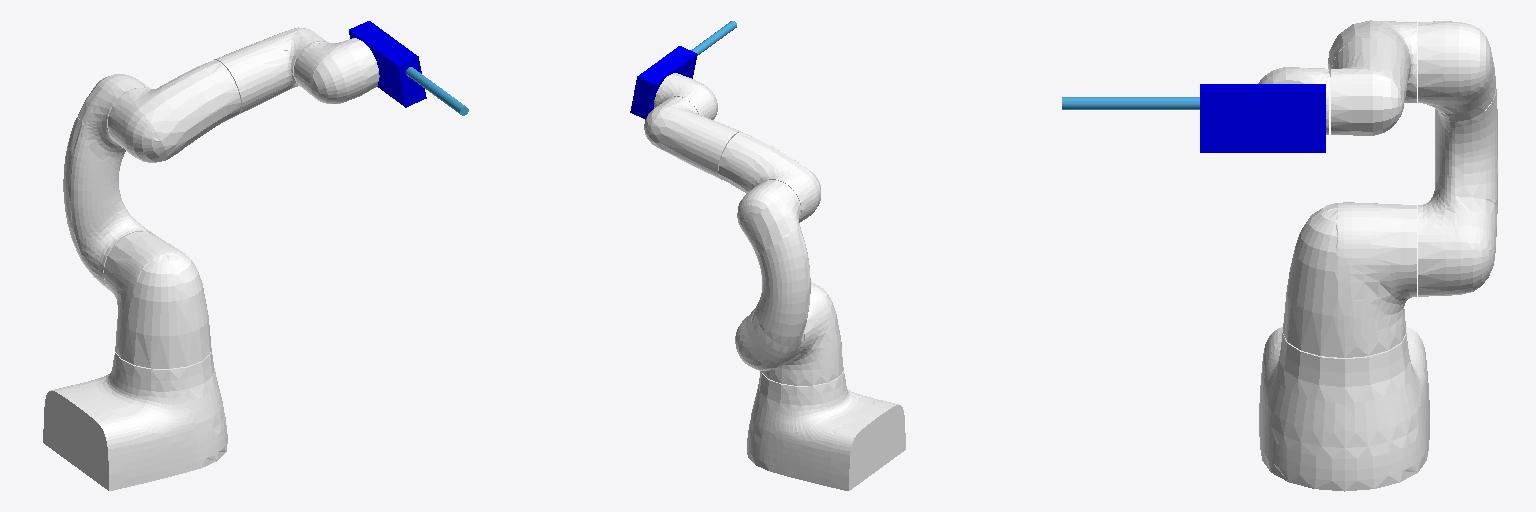
URDF robot description (cobotta_r):
<robot name="cobotta_r">
	<gazebo>
		<plugin filename="libgazebo_ros_control.so" name="gazebo_ros_control">
			<robotNamespace>/cobotta_r</robotNamespace>
		</plugin>
	</gazebo>
	<link name="world" />
	<joint name="joint_w" type="fixed">
		<parent link="world" />
		<child link="base_link" />
	</joint>
	<link name="base_link">
		<visual>
			<origin rpy="0 0 0" xyz="0 0 0" />
			<geometry>
				<mesh filename="package://cobotta/urdf/base_link.dae" scale="1 1 1" />
			</geometry>
		</visual>
		<collision>
			<origin rpy="0 0 0" xyz="0 0 0" />
			<geometry>
				<mesh filename="package://cobotta/urdf/base_link.dae" scale="1 1 1" />
			</geometry>
		</collision>
		<inertial>
			<mass value="1" />
			<origin rpy="0.000000 0.000000 0.000000" xyz="0.000000 0.000000 0.000000" />
			<inertia ixx="1" ixy="0" ixz="0" iyy="1" iyz="0" izz="1" />
		</inertial>
	</link>
	<link name="J1">
		<visual>
			<origin rpy="0 0 0" xyz="0 0 0" />
			<geometry>
				<mesh filename="package://cobotta/urdf/J1.dae" scale="1 1 1" />
			</geometry>
		</visual>
		<collision>
			<origin rpy="0 0 0" xyz="0 0 0" />
			<geometry>
				<mesh filename="package://cobotta/urdf/J1.dae" scale="1 1 1" />
			</geometry>
		</collision>
		<inertial>
			<mass value="1" />
			<origin rpy="0.000000 0.000000 0.000000" xyz="0.000000 0.000000 0.000000" />
			<inertia ixx="1" ixy="0" ixz="0" iyy="1" iyz="0" izz="1" />
		</inertial>
	</link>
	<joint name="joint_1" type="revolute">
		<parent link="base_link" />
		<child link="J1" />
		<origin rpy="0.000000 0.000000 0.000000" xyz="0.000000 0.000000 0.000000" />
		<axis xyz="-0.000000 -0.000000 1.000000" />
		<limit effort="1" lower="-2.61799387799149" upper="2.61799387799149" velocity="0.383012504350156" />
		<dynamics damping="0" friction="0" />
	</joint>
	<transmission name="trans_1">
		<type>transmission_interface/SimpleTransmission</type>
		<joint name="joint_1">
			<hardwareInterface>hardware_interface/PositionJointInterface</hardwareInterface>
		</joint>
		<actuator name="motor_1">
			<hardwareInterface>hardware_interface/PositionJointInterface</hardwareInterface>
			<mechanicalReduction>1</mechanicalReduction>
		</actuator>
	</transmission>
	<link name="J2">
		<visual>
			<origin rpy="0 0 0" xyz="0 0 0" />
			<geometry>
				<mesh filename="package://cobotta/urdf/J2.dae" scale="1 1 1" />
			</geometry>
		</visual>
		<collision>
			<origin rpy="0 0 0" xyz="0 0 0" />
			<geometry>
				<mesh filename="package://cobotta/urdf/J2.dae" scale="1 1 1" />
			</geometry>
		</collision>
		<inertial>
			<mass value="1" />
			<origin rpy="0.000000 0.000000 0.000000" xyz="0.000000 0.000000 0.000000" />
			<inertia ixx="1" ixy="0" ixz="0" iyy="1" iyz="0" izz="1" />
		</inertial>
	</link>
	<joint name="joint_2" type="revolute">
		<parent link="J1" />
		<child link="J2" />
		<origin rpy="0.000000 0.000000 0.000000" xyz="0.000000 0.000000 0.180000" />
		<axis xyz="-0.000000 1.000000 -0.000000" />
		<limit effort="1" lower="-1.0471975511966" upper="1.74532925199433" velocity="0.37256670877697" />
		<dynamics damping="0" friction="0" />
	</joint>
	<transmission name="trans_2">
		<type>transmission_interface/SimpleTransmission</type>
		<joint name="joint_2">
			<hardwareInterface>hardware_interface/PositionJointInterface</hardwareInterface>
		</joint>
		<actuator name="motor_2">
			<hardwareInterface>hardware_interface/PositionJointInterface</hardwareInterface>
			<mechanicalReduction>1</mechanicalReduction>
		</actuator>
	</transmission>
	<link name="J3">
		<visual>
			<origin rpy="0 0 0" xyz="0 0 0" />
			<geometry>
				<mesh filename="package://cobotta/urdf/J3.dae" scale="1 1 1" />
			</geometry>
		</visual>
		<collision>
			<origin rpy="0 0 0" xyz="0 0 0" />
			<geometry>
				<mesh filename="package://cobotta/urdf/J3.dae" scale="1 1 1" />
			</geometry>
		</collision>
		<inertial>
			<mass value="1" />
			<origin rpy="0.000000 0.000000 0.000000" xyz="0.000000 0.000000 0.000000" />
			<inertia ixx="1" ixy="0" ixz="0" iyy="1" iyz="0" izz="1" />
		</inertial>
	</link>
	<joint name="joint_3" type="revolute">
		<parent link="J2" />
		<child link="J3" />
		<origin rpy="0.000000 0.000000 0.000000" xyz="0.000000 0.000000 0.165000" />
		<axis xyz="-0.000000 1.000000 -0.000000" />
		<limit effort="1" lower="0.314159265358979" upper="2.44346095279206" velocity="0.68942250783028" />
		<dynamics damping="0" friction="0" />
	</joint>
	<transmission name="trans_3">
		<type>transmission_interface/SimpleTransmission</type>
		<joint name="joint_3">
			<hardwareInterface>hardware_interface/PositionJointInterface</hardwareInterface>
		</joint>
		<actuator name="motor_3">
			<hardwareInterface>hardware_interface/PositionJointInterface</hardwareInterface>
			<mechanicalReduction>1</mechanicalReduction>
		</actuator>
	</transmission>
	<link name="J4">
		<visual>
			<origin rpy="0 0 0" xyz="0 0 0" />
			<geometry>
				<mesh filename="package://cobotta/urdf/J4.dae" scale="1 1 1" />
			</geometry>
		</visual>
		<collision>
			<origin rpy="0 0 0" xyz="0 0 0" />
			<geometry>
				<mesh filename="package://cobotta/urdf/J4.dae" scale="1 1 1" />
			</geometry>
		</collision>
		<inertial>
			<mass value="1" />
			<origin rpy="0.000000 0.000000 0.000000" xyz="0.000000 0.000000 0.000000" />
			<inertia ixx="1" ixy="0" ixz="0" iyy="1" iyz="0" izz="1" />
		</inertial>
	</link>
	<joint name="joint_4" type="revolute">
		<parent link="J3" />
		<child link="J4" />
		<origin rpy="0.000000 0.000000 0.000000" xyz="-0.012000 0.020000 -0.345000" />
		<axis xyz="-0.000000 -0.000000 1.000000" />
		<limit effort="1" lower="-2.96705972839036" upper="2.96705972839036" velocity="0.702189591308619" />
		<dynamics damping="0" friction="0" />
	</joint>
	<transmission name="trans_4">
		<type>transmission_interface/SimpleTransmission</type>
		<joint name="joint_4">
			<hardwareInterface>hardware_interface/PositionJointInterface</hardwareInterface>
		</joint>
		<actuator name="motor_4">
			<hardwareInterface>hardware_interface/PositionJointInterface</hardwareInterface>
			<mechanicalReduction>1</mechanicalReduction>
		</actuator>
	</transmission>
	<link name="J5">
		<visual>
			<origin rpy="0 0 0" xyz="0 0 0" />
			<geometry>
				<mesh filename="package://cobotta/urdf/J5.dae" scale="1 1 1" />
			</geometry>
		</visual>
		<collision>
			<origin rpy="0 0 0" xyz="0 0 0" />
			<geometry>
				<mesh filename="package://cobotta/urdf/J5.dae" scale="1 1 1" />
			</geometry>
		</collision>
		<inertial>
			<mass value="1" />
			<origin rpy="0.000000 0.000000 0.000000" xyz="0.000000 0.000000 0.000000" />
			<inertia ixx="1" ixy="0" ixz="0" iyy="1" iyz="0" izz="1" />
		</inertial>
	</link>
	<joint name="joint_5" type="revolute">
		<parent link="J4" />
		<child link="J5" />
		<origin rpy="0.000000 0.000000 0.000000" xyz="0.000000 -0.020000 0.522500" />
		<axis xyz="-0.000000 1.000000 -0.000000" />
		<limit effort="1" lower="-1.65806278939461" upper="2.35619449019234" velocity="0.702189591308619" />
		<dynamics damping="0" friction="0" />
	</joint>
	<transmission name="trans_5">
		<type>transmission_interface/SimpleTransmission</type>
		<joint name="joint_5">
			<hardwareInterface>hardware_interface/PositionJointInterface</hardwareInterface>
		</joint>
		<actuator name="motor_5">
			<hardwareInterface>hardware_interface/PositionJointInterface</hardwareInterface>
			<mechanicalReduction>1</mechanicalReduction>
		</actuator>
	</transmission>
	<link name="J6">
		<visual>
			<origin rpy="0 0 0" xyz="0 0 0" />
			<geometry>
				<mesh filename="package://cobotta/urdf/J6.dae" scale="1 1 1" />
			</geometry>
		</visual>
		<collision>
			<origin rpy="0 0 0" xyz="0 0 0" />
			<geometry>
				<mesh filename="package://cobotta/urdf/J6.dae" scale="1 1 1" />
			</geometry>
		</collision>
		<inertial>
			<mass value="1" />
			<origin rpy="0.000000 0.000000 0.000000" xyz="0.000000 0.000000 0.000000" />
			<inertia ixx="1" ixy="0" ixz="0" iyy="1" iyz="0" izz="1" />
		</inertial>
	</link>
	<joint name="joint_6" type="revolute">
		<parent link="J5" />
		<child link="J6" />
		<origin rpy="0.000000 0.000000 0.000000" xyz="0.000000 -0.044500 0.042000" />
		<axis xyz="-0.000000 -0.000000 1.000000" />
		<limit effort="1" lower="-2.96705972839036" upper="2.96705972839036" velocity="1.05386470893922" />
		<dynamics damping="0" friction="0" />
	</joint>
	<transmission name="trans_6">
		<type>transmission_interface/SimpleTransmission</type>
		<joint name="joint_6">
			<hardwareInterface>hardware_interface/PositionJointInterface</hardwareInterface>
		</joint>
		<actuator name="motor_6">
			<hardwareInterface>hardware_interface/PositionJointInterface</hardwareInterface>
			<mechanicalReduction>1</mechanicalReduction>
		</actuator>
	</transmission>
	<link name ="Jtoolbase">
		<visual>
			<origin rpy="0 0 0" xyz="0.000 -0.0200 0.0125" />
			<geometry>
				<box size="0.05 0.100 0.025"/>
			</geometry>
			<material name="blue"> 
			  <color rgba="0 0 1 1" /> 
			</material>
		</visual>
	</link>
	<joint name="tool_connect" type="fixed">
		<parent link="J6" />
		<child link="Jtoolbase" />
		<origin rpy="0.000000 0.000000 0.000000" xyz="0.000000 0.000000 0.000000" />
	</joint>
	<link name="Jtooltip">
		<visual>
			<origin rpy="1.570796 0 0" xyz="0 0.055 0"/>
			<geometry>
				<cylinder length="0.11" radius="0.005"/>
			</geometry>
		</visual>
	</link>
	<joint name="joint_tip" type="revolute">
		<parent link="Jtoolbase" />
		<child link="Jtooltip" />
		<origin rpy="0.000000 0.000000 0.000000" xyz="-0.0125 -0.180 0.0125" />
		<axis xyz="-0.000000 -1.000000 0.000000" />
		<limit effort="1" lower="-2.96705972839036" upper="2.96705972839036" velocity="1.05386470893922" />
		<dynamics damping="0" friction="0" />
	</joint>


</robot>

--- Facts derived from the render (not from the file) ---
3 views of the same robot in one strip: view 1: azimuth 30°, elevation 25°; view 2: azimuth 150°, elevation 25°; view 3: azimuth 270°, elevation 25° (orthographic).
Robot: cobotta_r — 10 links, 9 joints (7 revolute, 2 fixed); root link world; default pose: joints at zero except 1 at the middle of their limits (joint_3 = 1.38).
Links seen in each view (by area): view 1: base_link, J1, J2, J3, J4, J5, Jtoolbase, Jtooltip; view 2: base_link, J2, J4, J3, J1, Jtoolbase, J5; view 3: base_link, J2, J1, Jtoolbase, J4, J3, Jtooltip, J5.
Link boxes in pixels (left/top/right/bottom): base_link: left=43, top=347, right=227, bottom=490; J1: left=104, top=231, right=210, bottom=368; J2: left=63, top=74, right=154, bottom=289; J3: left=108, top=60, right=240, bottom=162; J4: left=214, top=27, right=328, bottom=113; J5: left=294, top=38, right=378, bottom=103; Jtoolbase: left=349, top=21, right=426, bottom=107; Jtooltip: left=406, top=67, right=468, bottom=115; base_link: left=747, top=371, right=905, bottom=490; J2: left=735, top=180, right=810, bottom=370; J4: left=644, top=96, right=740, bottom=179; J3: left=718, top=132, right=820, bottom=222; J1: left=762, top=282, right=843, bottom=385; Jtoolbase: left=630, top=46, right=697, bottom=119; J5: left=655, top=73, right=717, bottom=119; base_link: left=1259, top=327, right=1429, bottom=491; J2: left=1418, top=21, right=1497, bottom=296; J1: left=1283, top=202, right=1416, bottom=357; Jtoolbase: left=1200, top=84, right=1325, bottom=152; J4: left=1331, top=37, right=1407, bottom=135; J3: left=1328, top=20, right=1416, bottom=102; Jtooltip: left=1062, top=97, right=1199, bottom=109; J5: left=1258, top=67, right=1328, bottom=134.
Bounding box of the posed robot: 0.3445 × 0.3465 × 0.428 m (x, y, z).
7 mesh visuals loaded from 7 distinct referenced files (7 Collada DAE).
